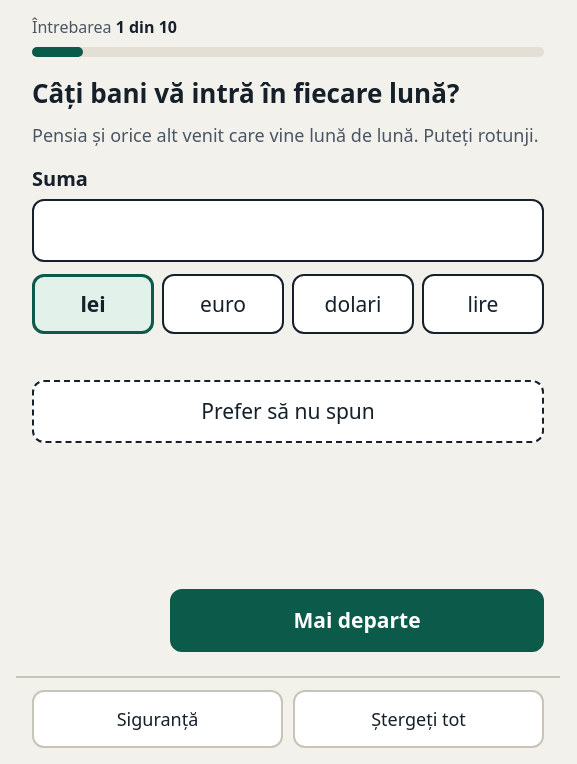
it: parcurgerea chestionarului › fara raspuns nu se merge mai departe si nu se salveaza nimic
Click the button "Mai departe" at (357, 621), box [170, 590, 544, 652]
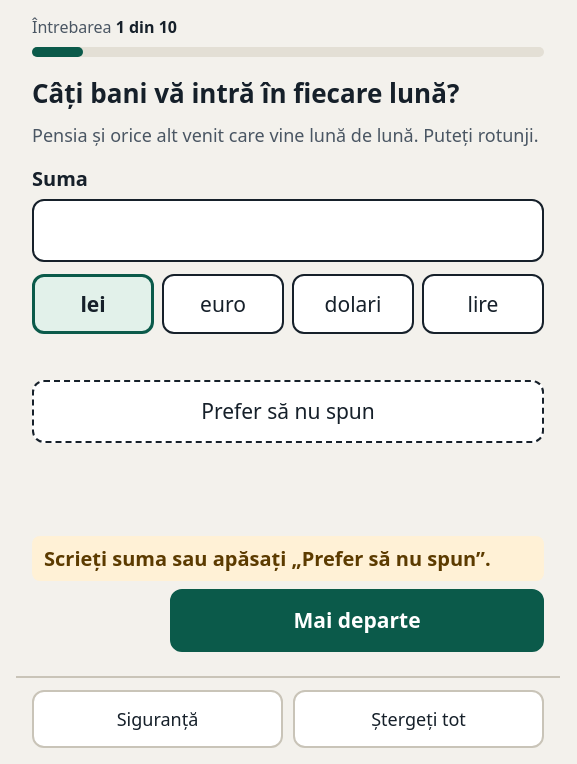
Expected: the text "1 din 10" is shown, [116, 16, 177, 38]
Expected: the message shows "Scrieți suma", [44, 546, 491, 572]
